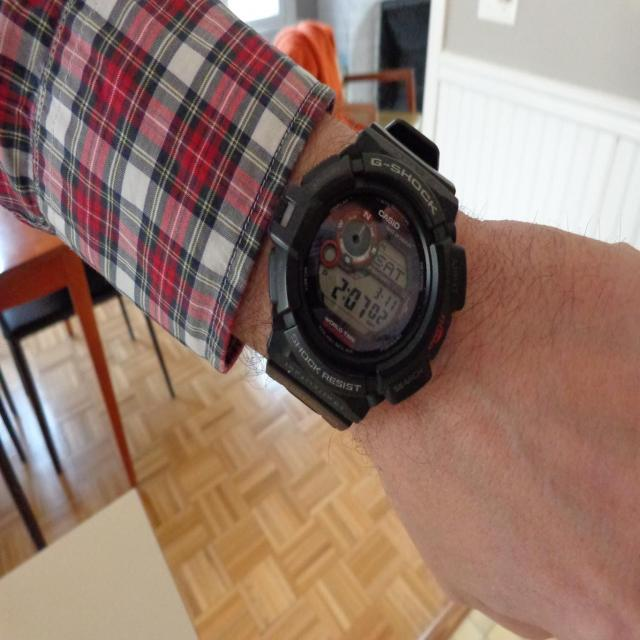Wrist watch: (267, 103, 451, 476)
